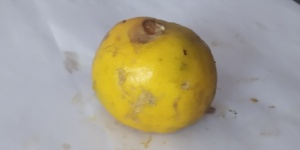BAD: (93, 14, 217, 132)
